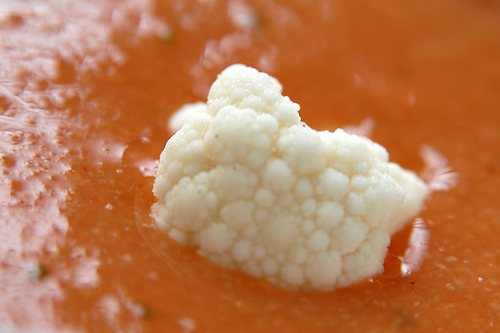cauliflower: (149, 61, 433, 296)
